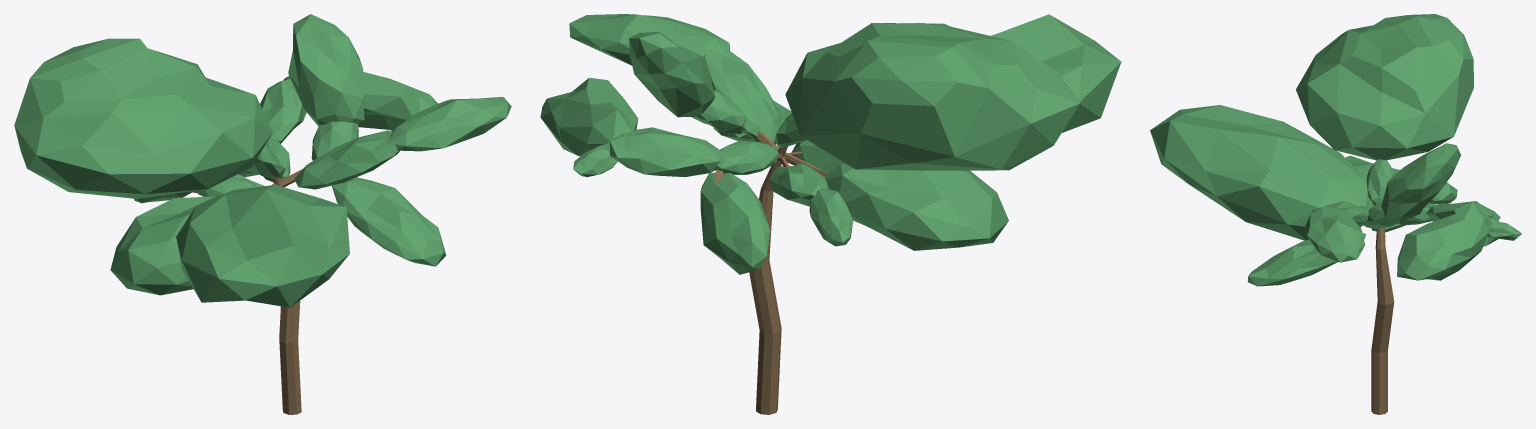
File: Tree.fbx
3 views of the same model, side by side, from view 1: azimuth 30°, elevation 25°; view 2: azimuth 150°, elevation 25°; view 3: azimuth 270°, elevation 25° (orthographic). The views are drawn at different scales.
Parts seen in each view (by area): view 1: Tree; view 2: Tree; view 3: Tree.
Boxes of the visible parts, box(x1,y1,x2,y2) form: Tree: box(14, 14, 511, 414); Tree: box(540, 14, 1121, 414); Tree: box(1150, 14, 1521, 414).
Bounding box in the file's own units: 5363 × 4234 × 4475.
